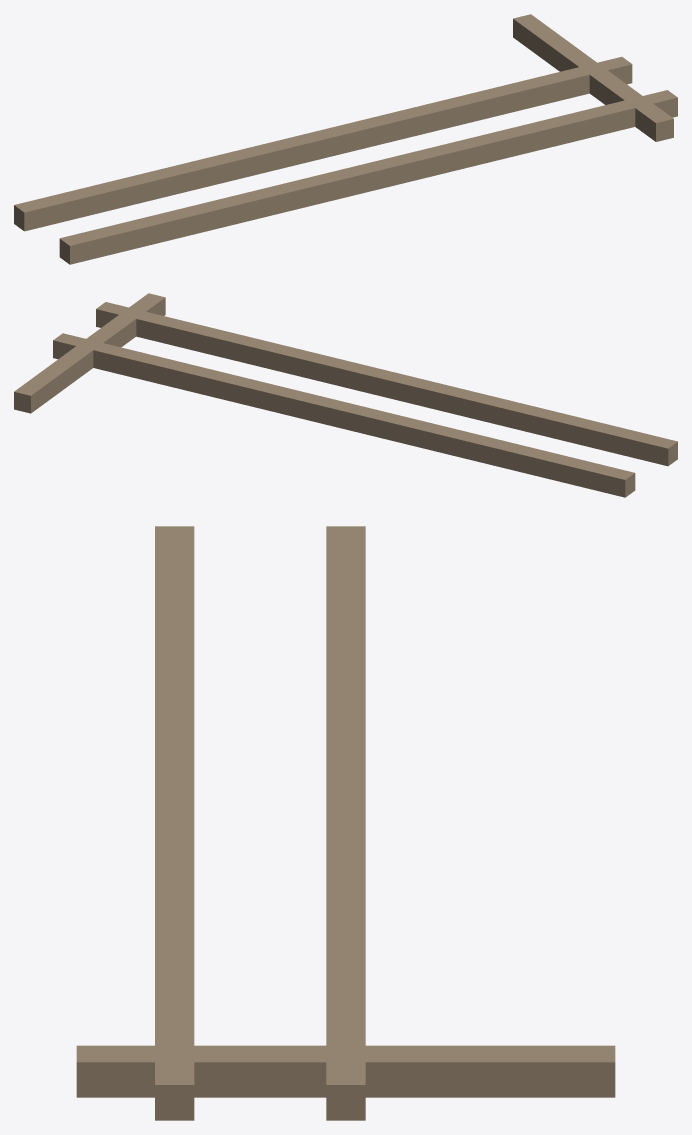
The model's file is env_wooden_fence_section.glb.
The picture shows the model from 3 angles, top to bottom: view 1: azimuth 30°, elevation 25°; view 2: azimuth 150°, elevation 25°; view 3: azimuth 270°, elevation 25°; orthographic projection. The views are drawn at different scales.
Visible parts, largest first — view 1: rail_mid, rail_top, fence_post; view 2: rail_mid, rail_top, fence_post; view 3: fence_post, rail_top, rail_mid.
Boxes of the visible parts, <box> form: rail_mid: <box>14,56,632,231</box>; rail_top: <box>59,90,677,264</box>; fence_post: <box>513,14,673,141</box>; rail_mid: <box>53,333,635,497</box>; rail_top: <box>96,302,677,466</box>; fence_post: <box>14,293,165,413</box>; fence_post: <box>76,1045,615,1097</box>; rail_top: <box>155,526,194,1120</box>; rail_mid: <box>326,526,365,1120</box>.
Bounding box in the file's own units: 2.7 × 0.08 × 1.1.
